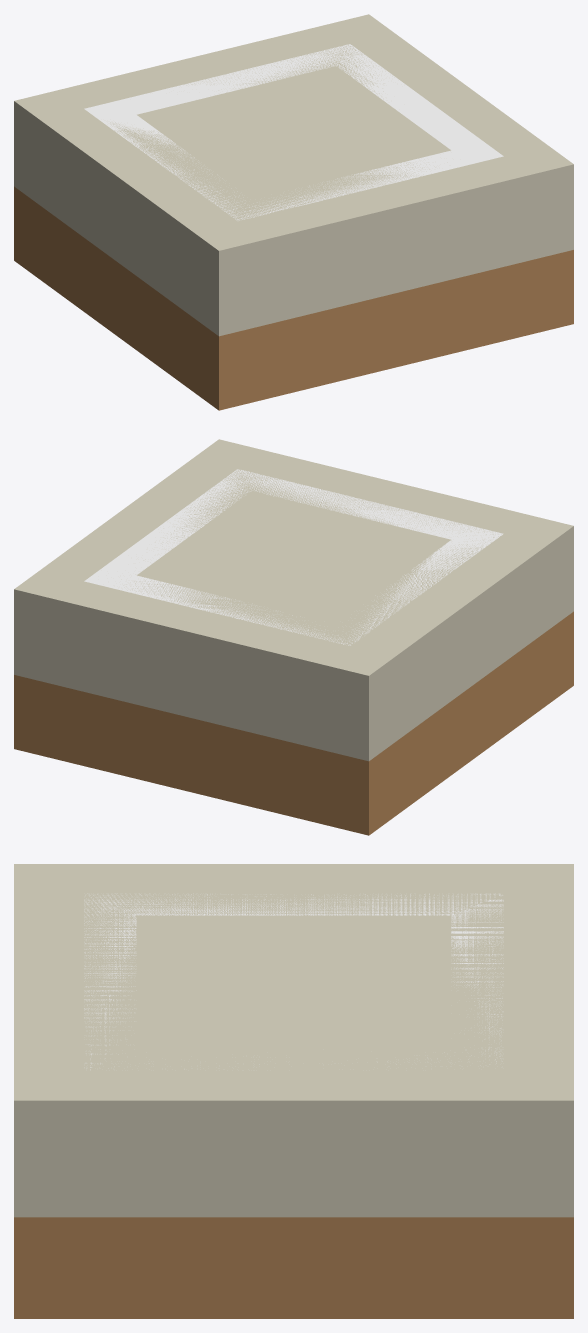
File: Building 38.FBX
3 renders of one model, top to bottom at view 1: azimuth 30°, elevation 25°; view 2: azimuth 150°, elevation 25°; view 3: azimuth 270°, elevation 25°, orthographic. The views are drawn at different scales.
Parts seen in each view (by area): view 1: Group104, Group105; view 2: Group104, Group105; view 3: Group104, Group105.
Part boxes in pixels (x1,y1,x2,y2): Group104: (14, 14, 573, 410); Group105: (84, 44, 503, 220); Group104: (14, 439, 573, 835); Group105: (84, 469, 503, 645); Group104: (14, 864, 573, 1318); Group105: (84, 893, 503, 1070).
Bounding box in the file's own units: 39.37 × 16.93 × 39.37.
